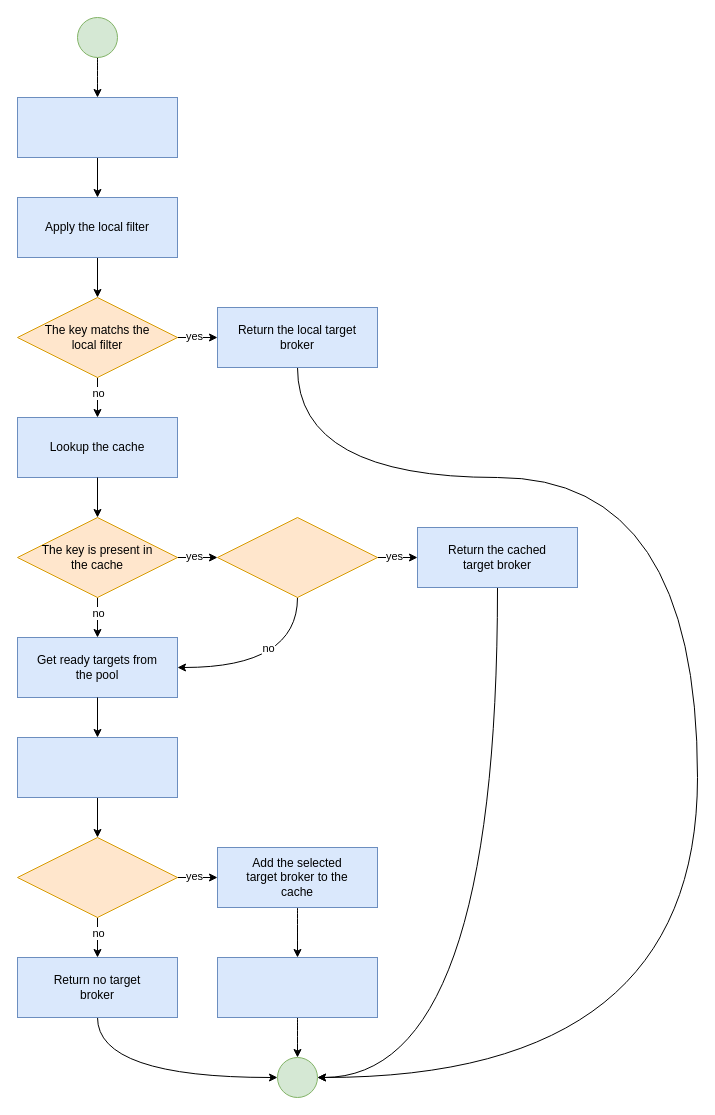
This 715x1115 diagram has some shape labels left out. The centre of each missing label's shape, as x and y in pixels:
"Retrieve the target key from the incoming connection" goes at [97,127].
"Return the selected target broker" goes at [297,987].
"Select one target broker using the policy" goes at [97,767].
"The policy selects one target broker" goes at [97,877].
"The target is ready" goes at [297,557].
